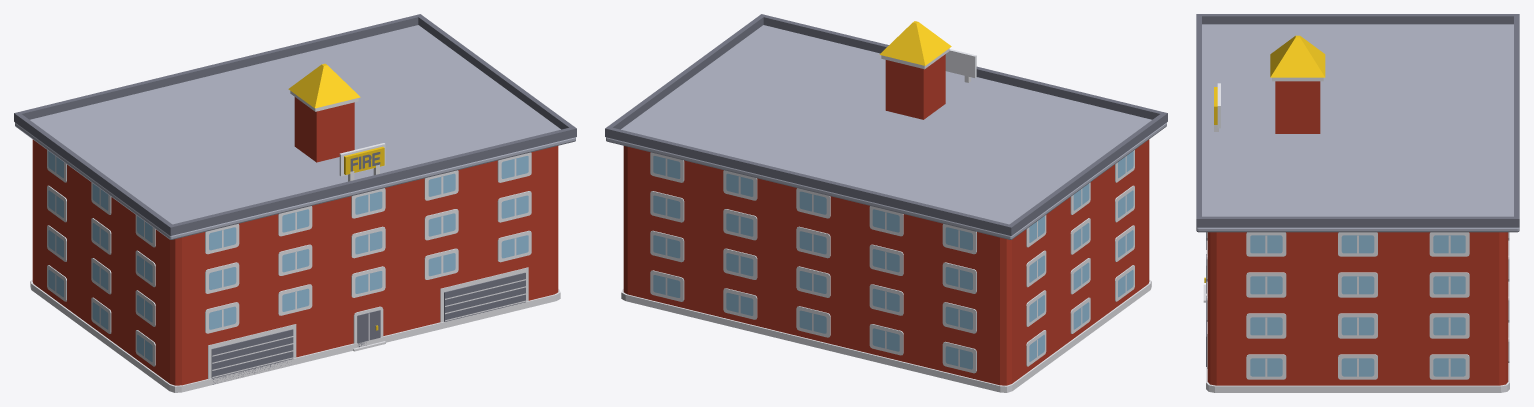
The model's file is fire-station-3x2-4f.glb.
3 renders of one model, left to right at view 1: azimuth 30°, elevation 25°; view 2: azimuth 150°, elevation 25°; view 3: azimuth 270°, elevation 25°, orthographic. The views are drawn at different scales.
Parts seen in each view (by area): view 1: fire-station-3x2-4f; view 2: fire-station-3x2-4f; view 3: fire-station-3x2-4f.
Boxes of the visible parts, box(x1,y1,x2,y2) form: fire-station-3x2-4f: box(14, 14, 576, 392); fire-station-3x2-4f: box(605, 14, 1167, 392); fire-station-3x2-4f: box(1196, 14, 1519, 392).
Size of the model in its own units: 3 by 1.76 by 2.
Materials: 1 (1 with a texture image).
